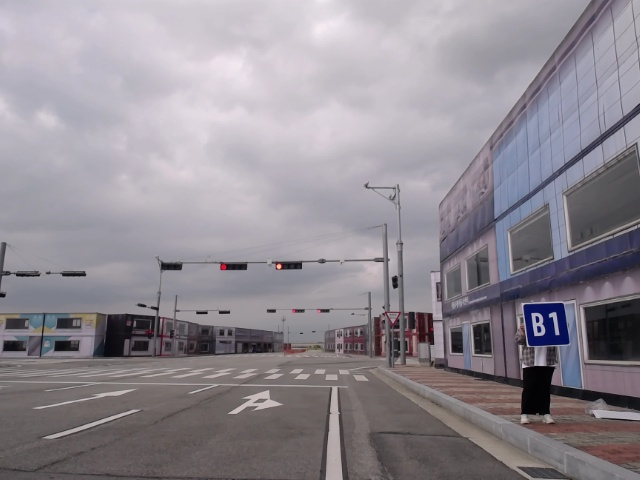delivery_b1: (523, 302, 571, 346)
red_4: (219, 262, 248, 271), (274, 261, 303, 270), (292, 309, 305, 313), (317, 309, 330, 313)
